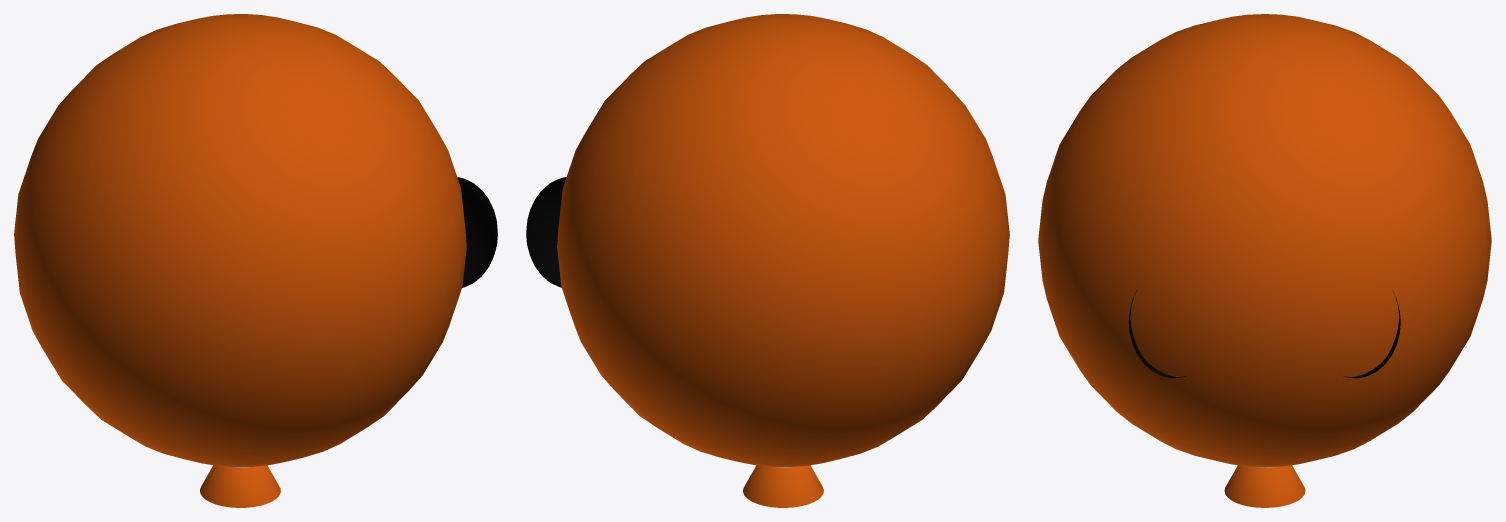
The model's file is Ballom.obj.
3 renders of one model, left to right at view 1: azimuth 30°, elevation 25°; view 2: azimuth 150°, elevation 25°; view 3: azimuth 270°, elevation 25°, orthographic.
Visible parts, largest first — view 1: Sphere; view 2: Sphere; view 3: Sphere.
Part boxes in pixels (<box>): Sphere: <box>14,14,497,507</box>; Sphere: <box>526,14,1009,507</box>; Sphere: <box>1038,14,1491,507</box>.
Bounding box in the file's own units: 2.05 × 2.22 × 2.
